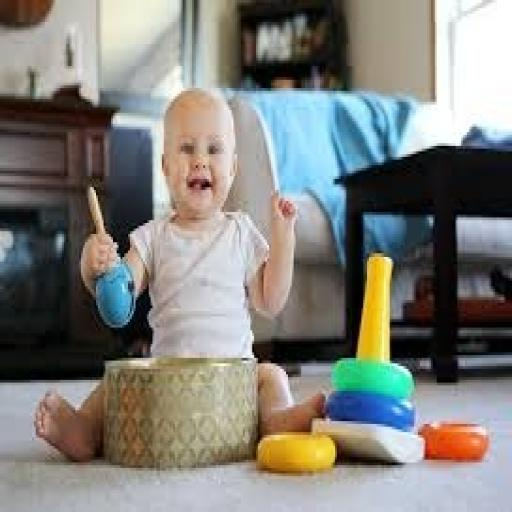baby: (123, 89, 297, 357)
